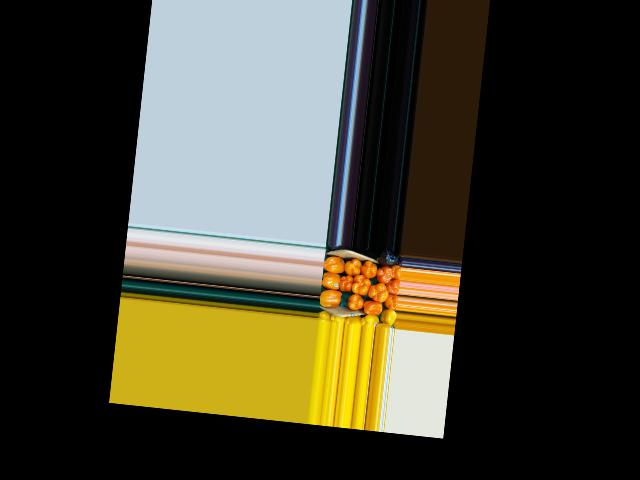bell_pepper: (357, 314, 380, 326)
